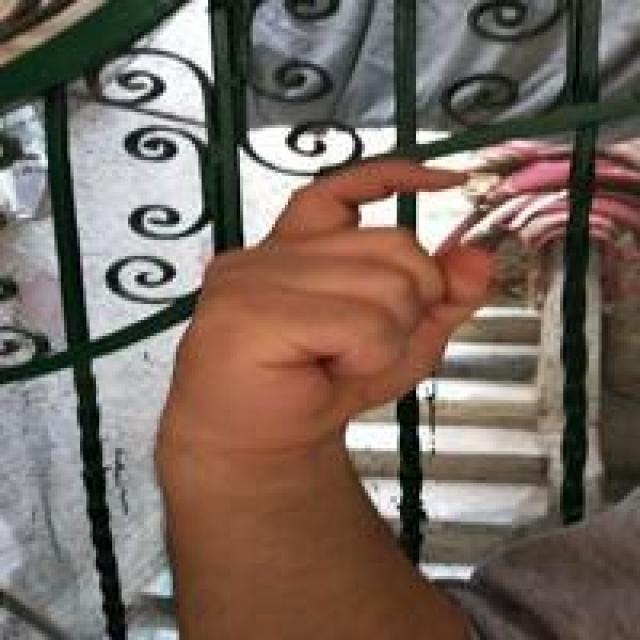X: (184, 160, 504, 499)
